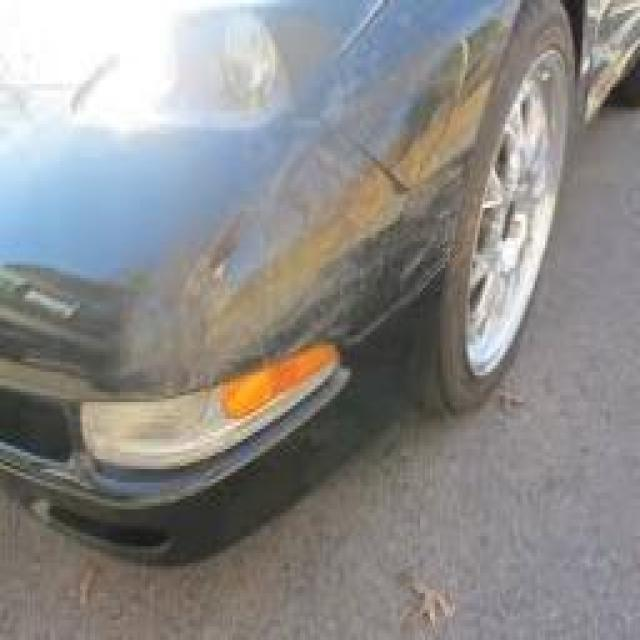Fender: (106, 0, 515, 400)
